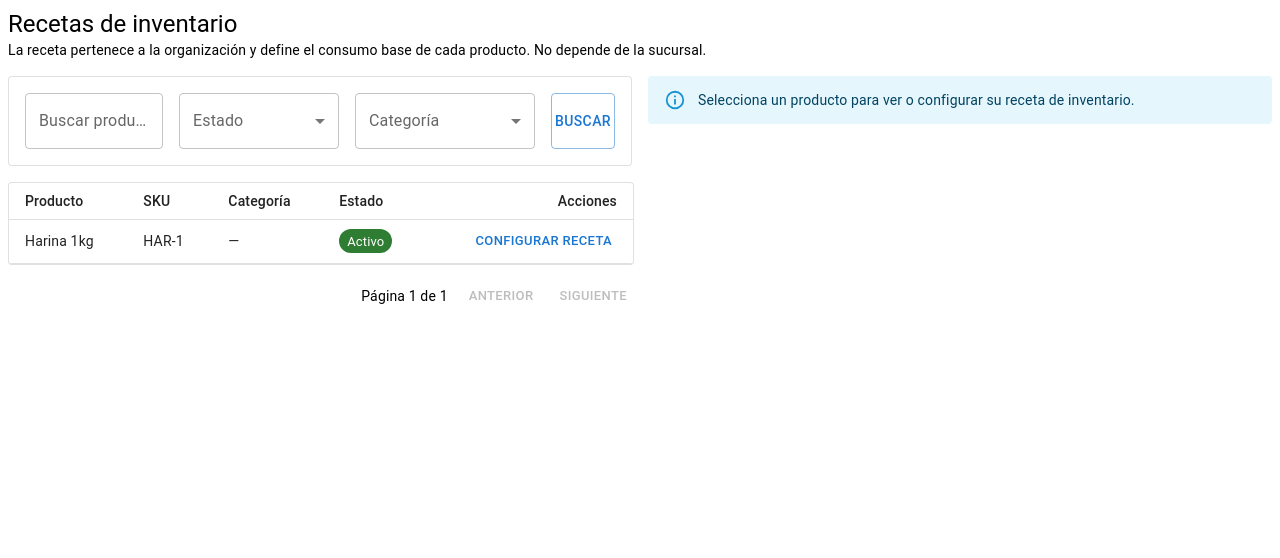
Test: RecipesPage › rejects fractional quantities for a discrete UNIT item
Check: the text "Harina 1kg" is shown, box x1=9 y1=220 x2=127 y2=263
Step 1. Click the button "Configurar receta" → (544, 241), box x1=470 y1=226 x2=617 y2=257
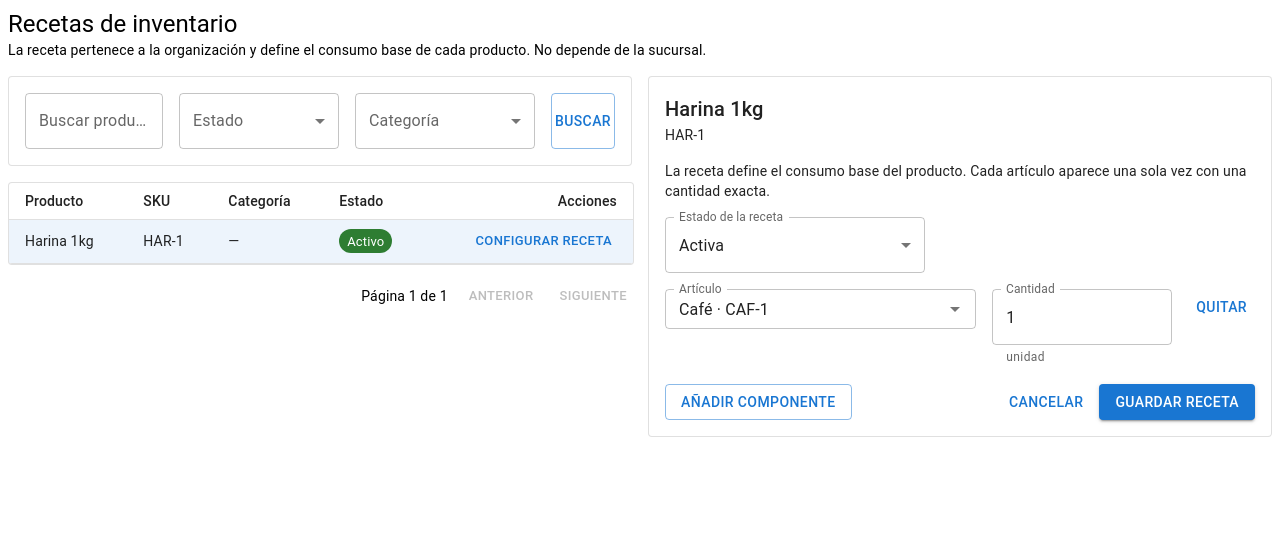
Step 2. Replace the text in the field labelled "Cantidad" with "0.5" → (1082, 317), box x1=992 y1=289 x2=1172 y2=345
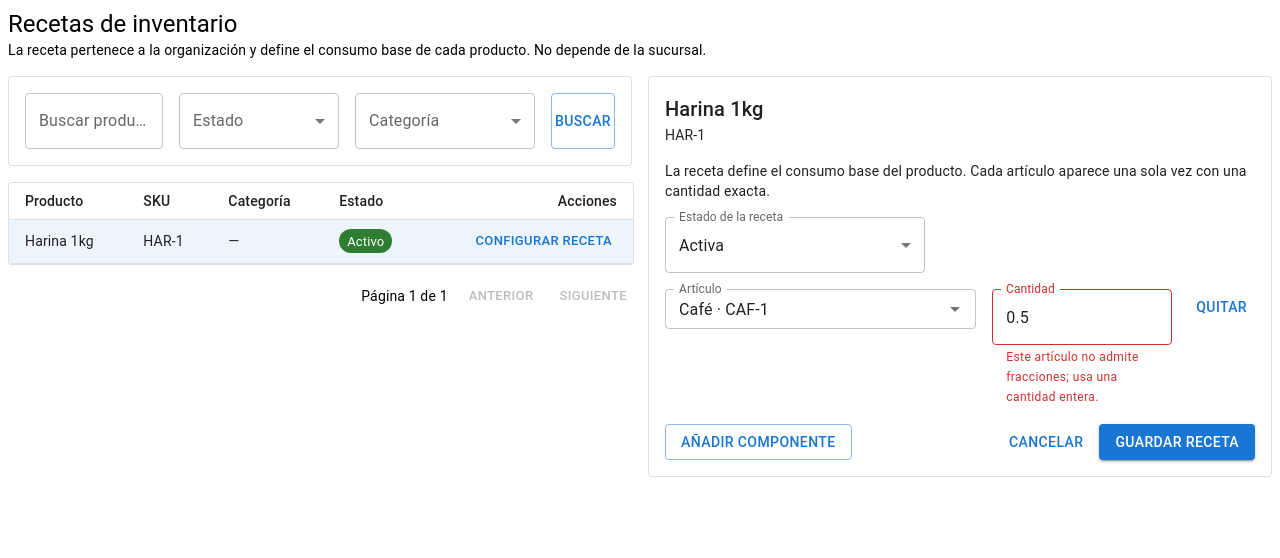
Step 3. Click the button "Guardar receta" → (1177, 442), box x1=1099 y1=424 x2=1255 y2=460
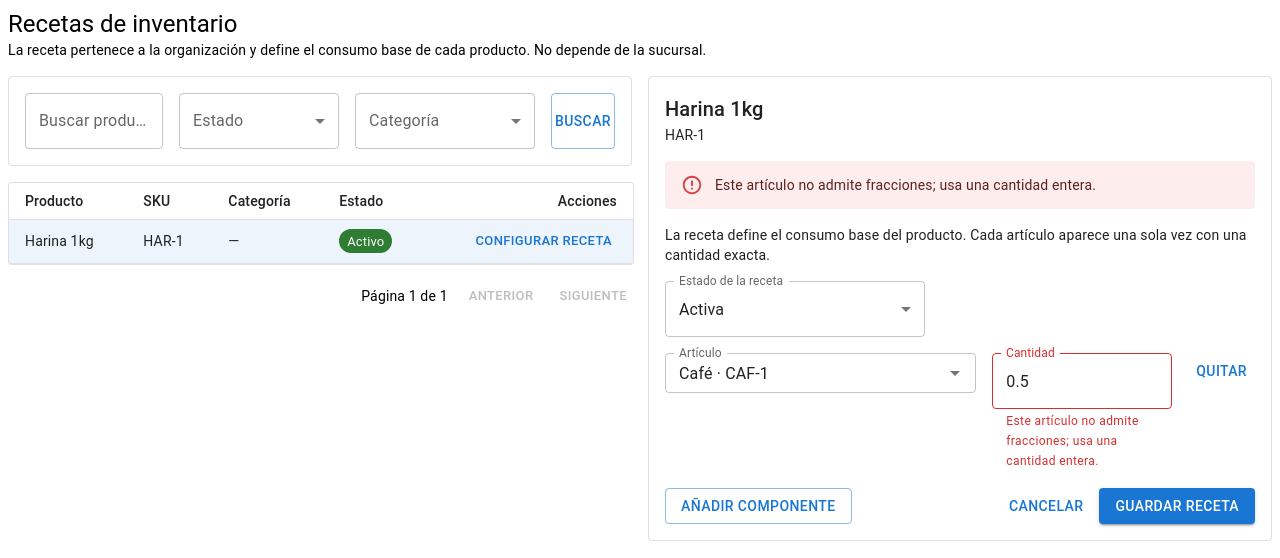
Check: the message reads "Este artículo no admite fracciones; usa una cantidad entera.", box x1=715 y1=177 x2=1096 y2=193
